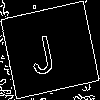J: (24, 24, 58, 76)
